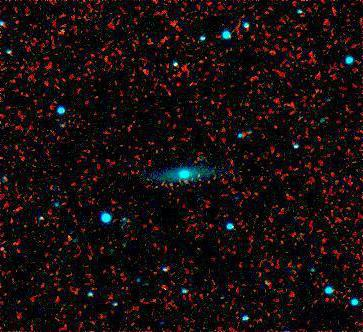star: (49, 11, 79, 41)
